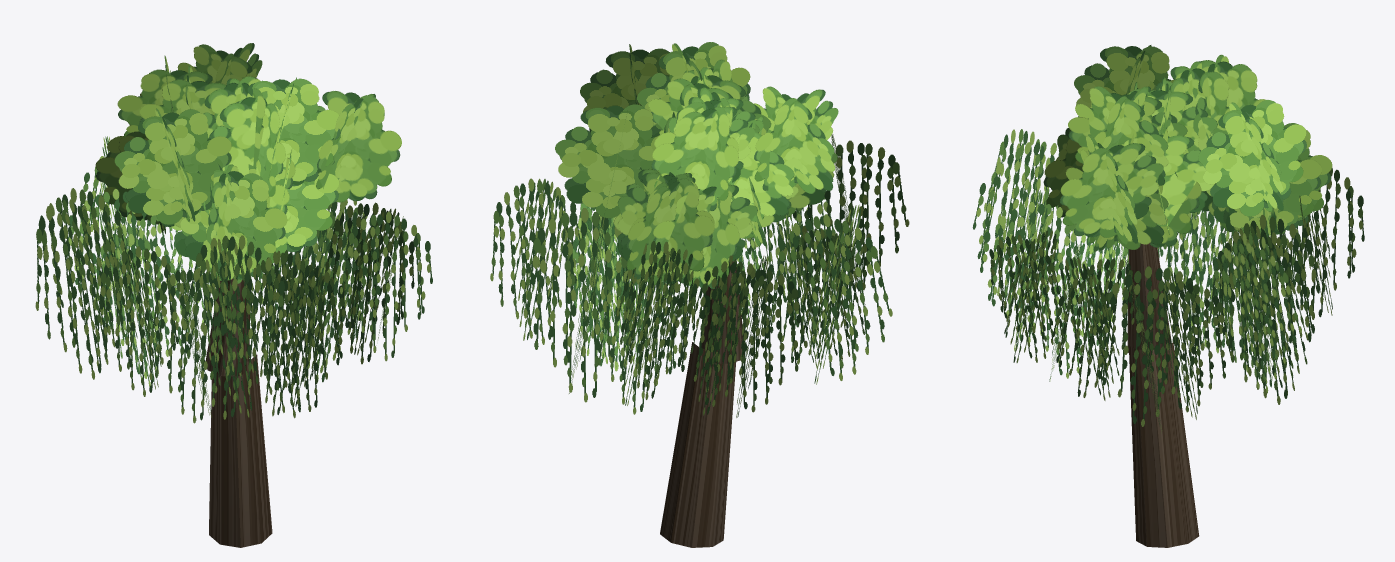
Rendered from anime_tree_willow.glb.
3 views of the same model, side by side, from view 1: azimuth 30°, elevation 25°; view 2: azimuth 150°, elevation 25°; view 3: azimuth 270°, elevation 25° (orthographic).
Visible parts, largest first — view 1: anime_tree_willow; view 2: anime_tree_willow; view 3: anime_tree_willow.
Boxes of the visible parts, <box> form: anime_tree_willow: <box>35,43,432,547</box>; anime_tree_willow: <box>490,42,909,547</box>; anime_tree_willow: <box>972,45,1364,547</box>.
Size of the model in its own units: 4.54 by 5.49 by 4.56.
Materials: 3 (3 with a texture image).
